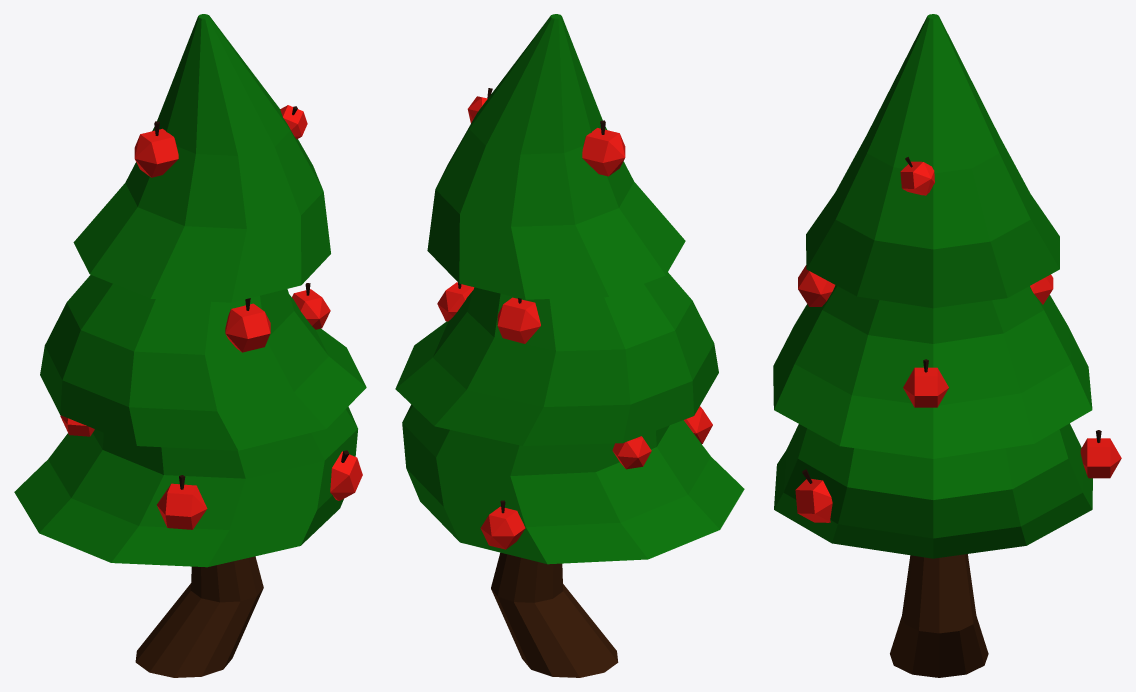
File: tree_4.fbx
3 renders of one model, left to right at view 1: azimuth 30°, elevation 25°; view 2: azimuth 150°, elevation 25°; view 3: azimuth 270°, elevation 25°, orthographic. The views are drawn at different scales.
Visible parts, largest first — view 1: tree 4; view 2: tree 4; view 3: tree 4.
Part boxes in pixels (bbox=[...]): tree 4: bbox=[14, 14, 366, 677]; tree 4: bbox=[395, 14, 744, 677]; tree 4: bbox=[773, 14, 1121, 677].
Bounding box in the file's own units: 342 × 678 × 330.
